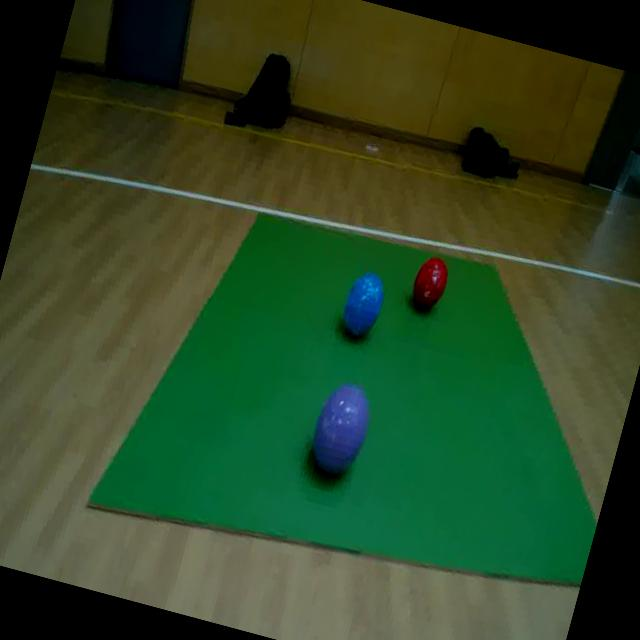blue_ball: (336, 271, 388, 343)
purple_ball: (304, 378, 378, 482)
red_ball: (408, 253, 452, 316)
